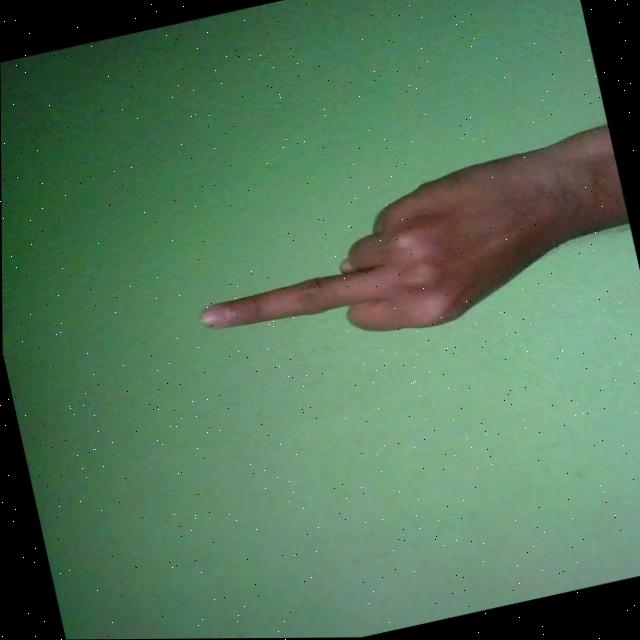Middle Finger: (176, 135, 628, 375)
